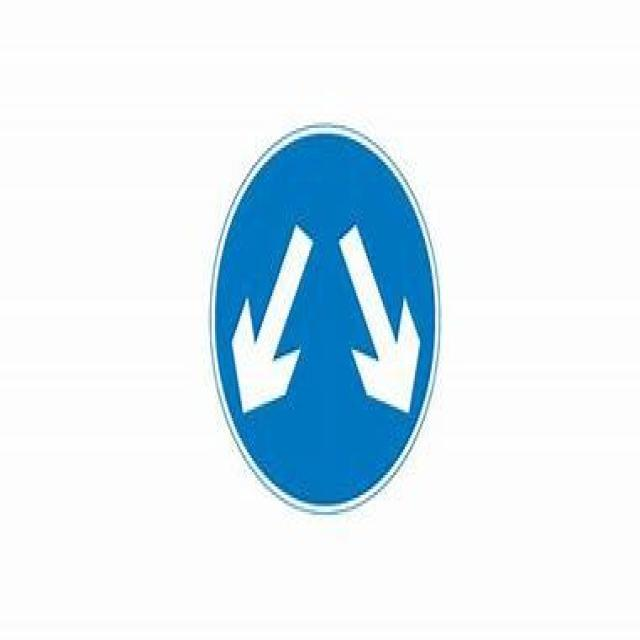pass either side: (208, 118, 441, 521)
